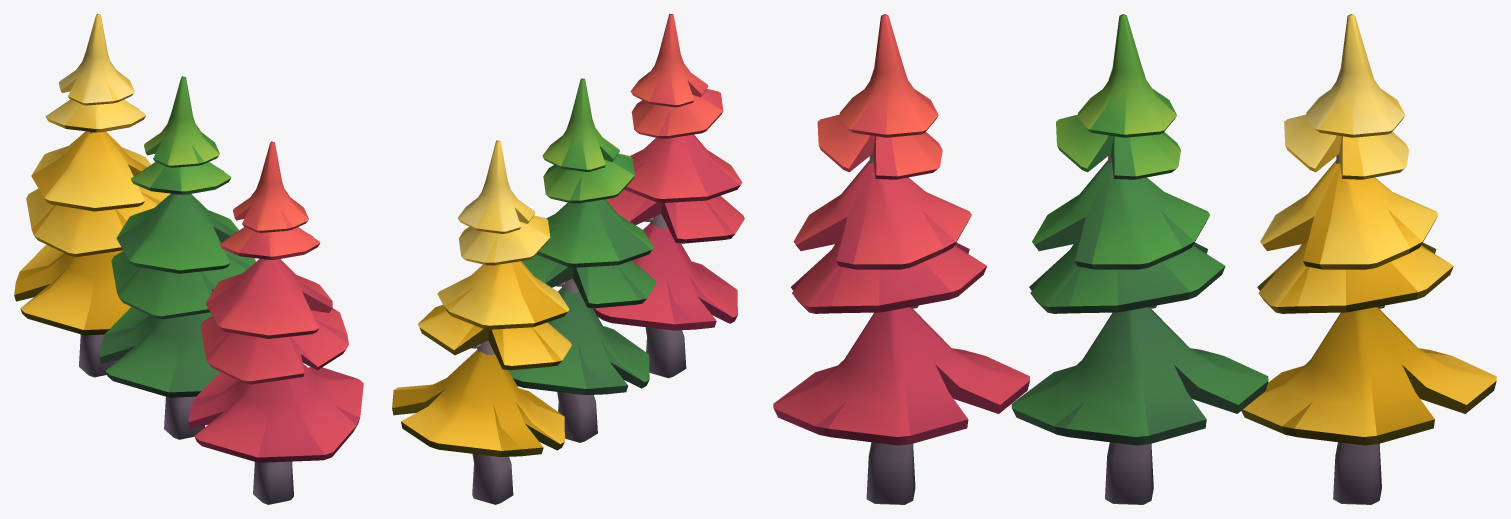
Rendered from archa.fbx.
The picture shows the model from 3 angles, left to right: view 1: azimuth 30°, elevation 25°; view 2: azimuth 150°, elevation 25°; view 3: azimuth 270°, elevation 25°; orthographic projection. The views are drawn at different scales.
Visible parts, largest first — view 1: archa1, archa2, archa3; view 2: archa3, archa1, archa2; view 3: archa1, archa2, archa3.
Boxes of the visible parts, x1=… form: archa1: x1=188, y1=141, x2=363, y2=504; archa2: x1=99, y1=76, x2=255, y2=439; archa3: x1=14, y1=14, x2=168, y2=377; archa3: x1=392, y1=140, x2=571, y2=504; archa1: x1=593, y1=14, x2=744, y2=378; archa2: x1=477, y1=78, x2=656, y2=442; archa1: x1=773, y1=14, x2=1030, y2=504; archa2: x1=1011, y1=14, x2=1268, y2=504; archa3: x1=1241, y1=14, x2=1496, y2=504.
Bounding box in the file's own units: 528 × 1086 × 1482.
Materials: 3 (3 with a texture image).
